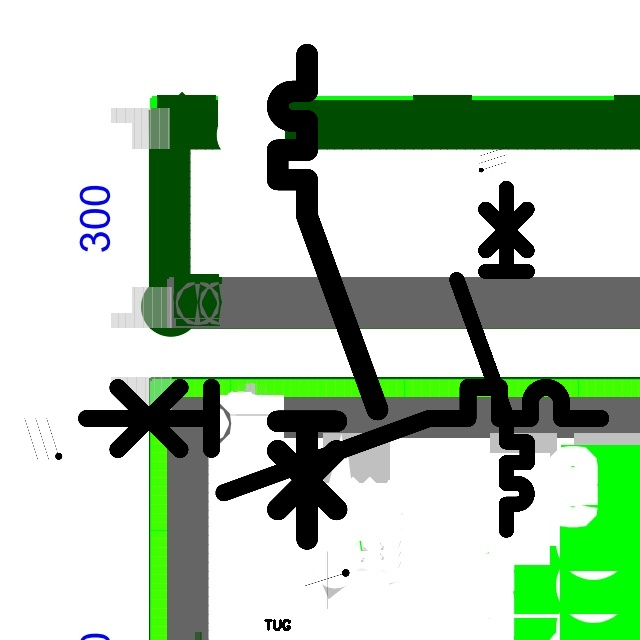interruptor_termomagnetico: (73, 374, 614, 506), (265, 42, 389, 551), (448, 179, 536, 538)
